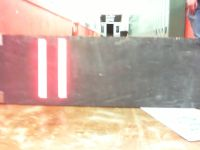switch: (57, 37, 68, 99), (37, 38, 48, 99)
